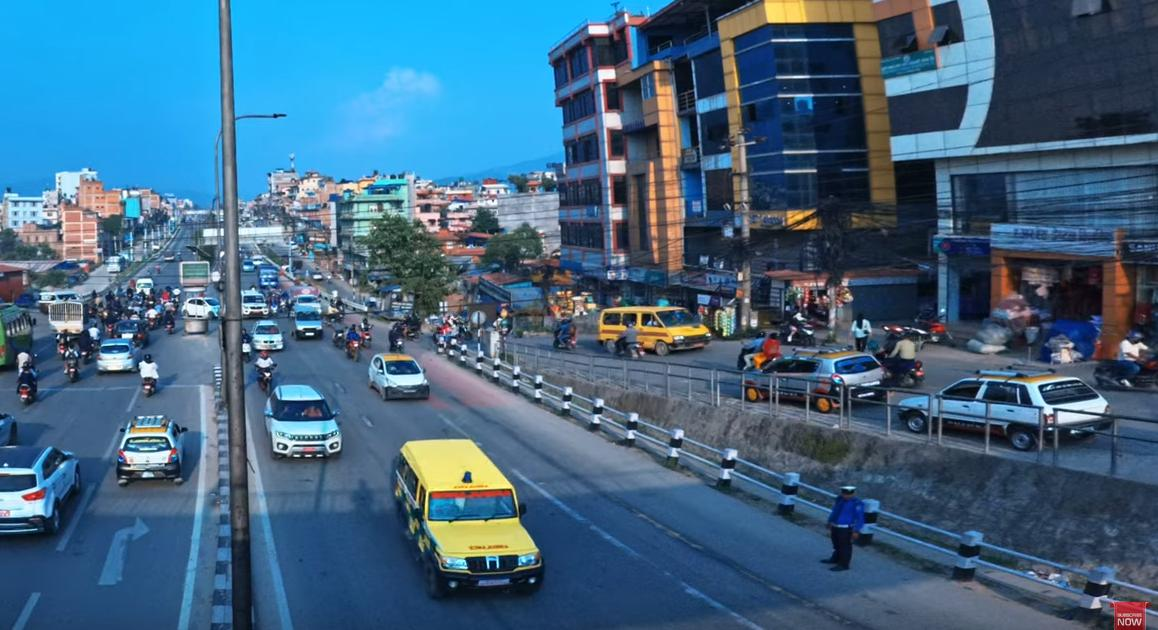SUV: (237, 288, 268, 318)
ambulance: (388, 435, 554, 608)
bus: (0, 303, 36, 369)
car: (0, 441, 86, 542), (263, 383, 345, 462)
school_bus: (599, 302, 713, 358)
taxi: (896, 369, 1118, 455), (734, 347, 888, 412), (115, 413, 190, 487), (364, 353, 432, 407)
